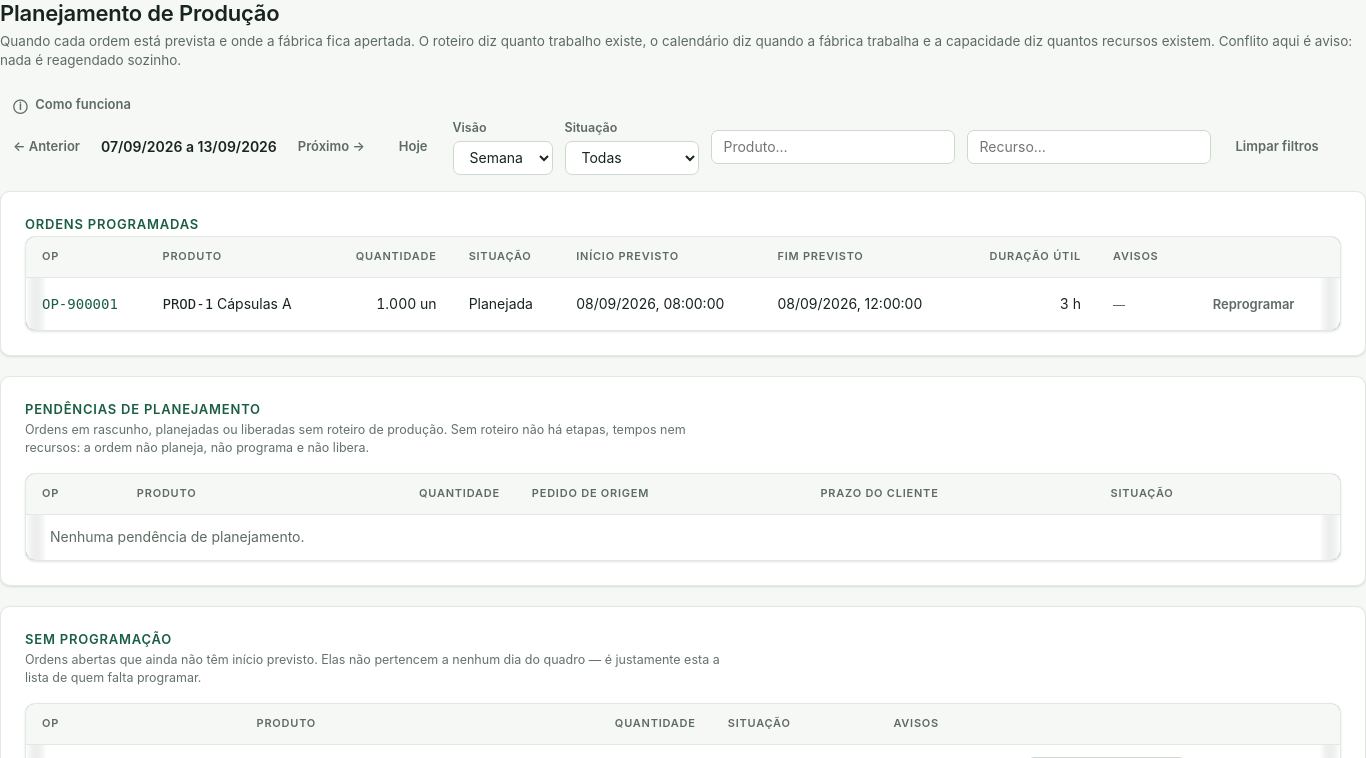
Test: Quadro de Produção — consulta em curso › período seguinte: uma consulta com a semana nova, e o quadro da semana anterior some
This screenshot has width=1366, height=758.
Click the button "Próximo →".
click(331, 147)  # box [285, 133, 378, 161]
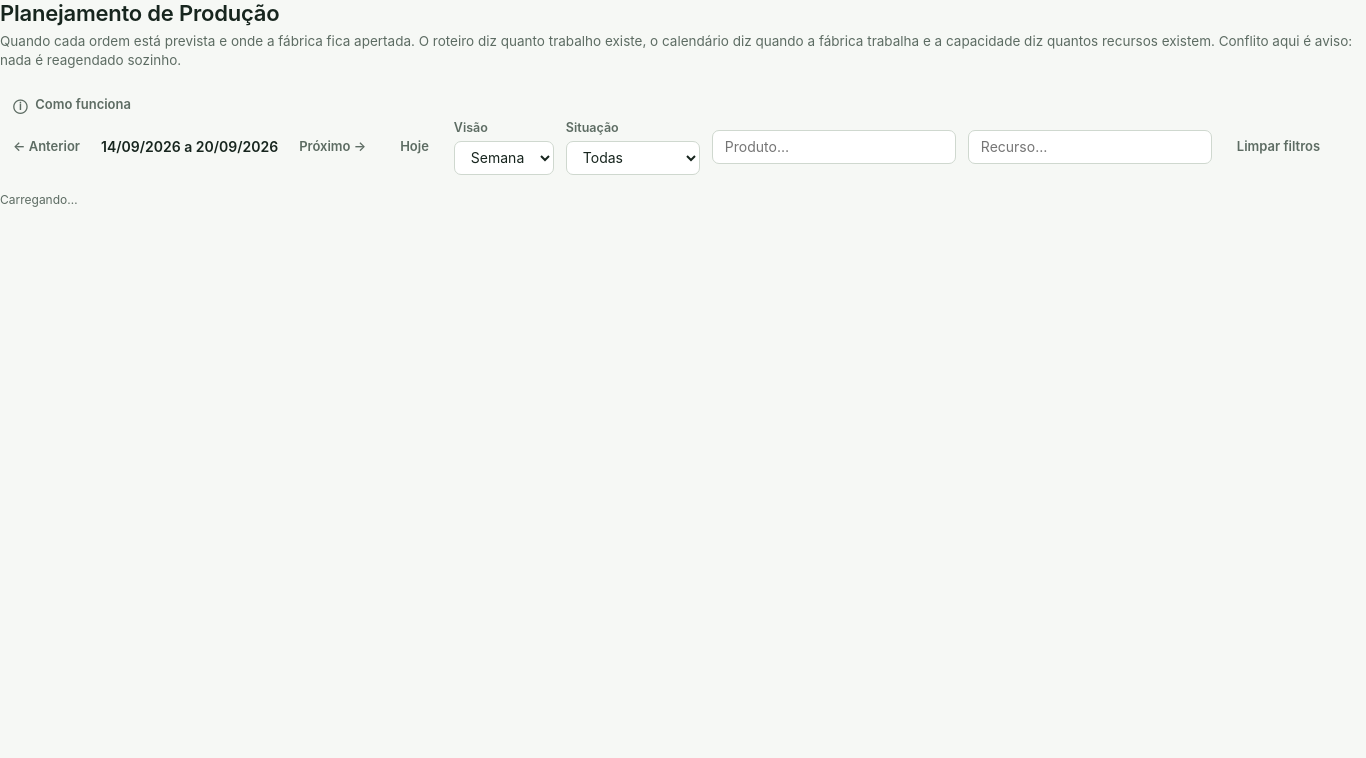
Now the text "Carregando…" is shown, box [0, 192, 78, 207]
